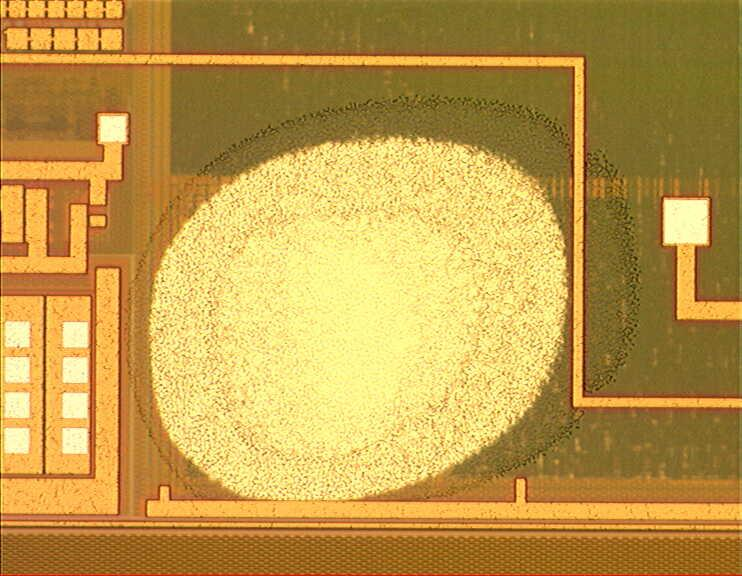BLOCK ETCH: (120, 91, 649, 531)
